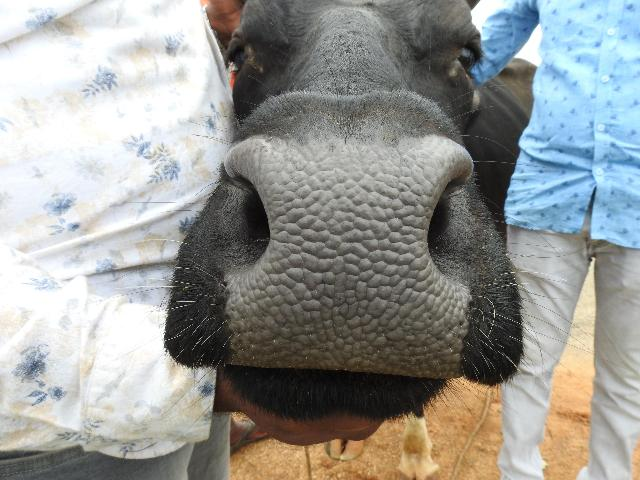Muzzle: (234, 142, 456, 368)
